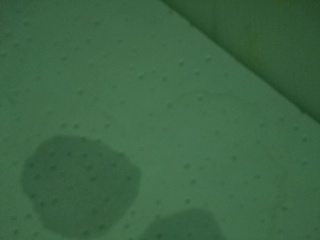Water_detected: (39, 152, 131, 222)
